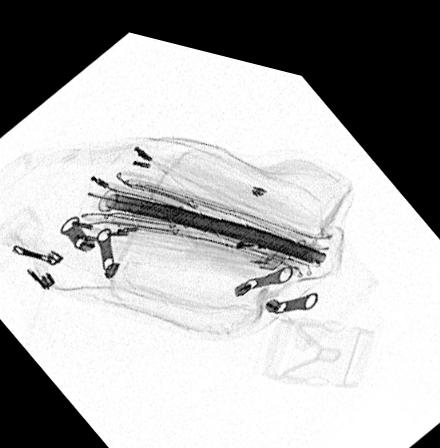Lighter: (222, 223, 287, 257)
